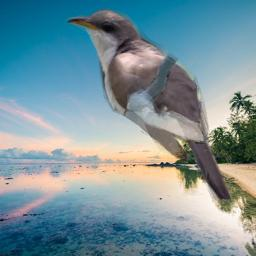Cuckoo: (63, 5, 231, 207)
